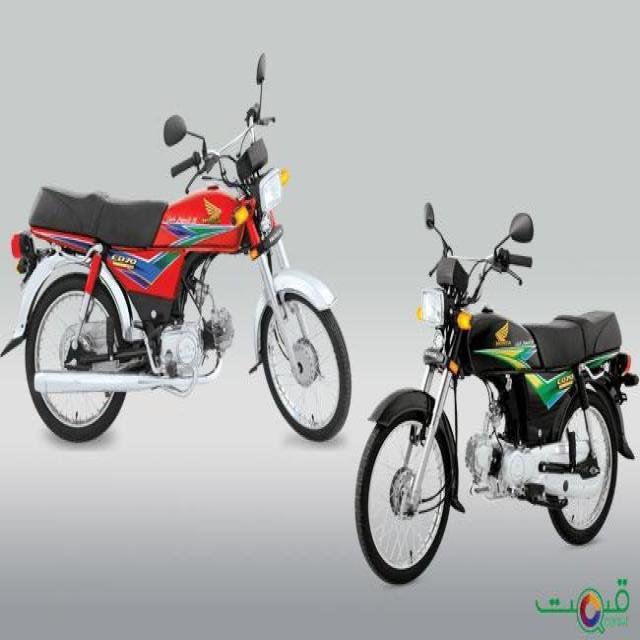motorcycle: (0, 44, 385, 442), (333, 163, 640, 594)
